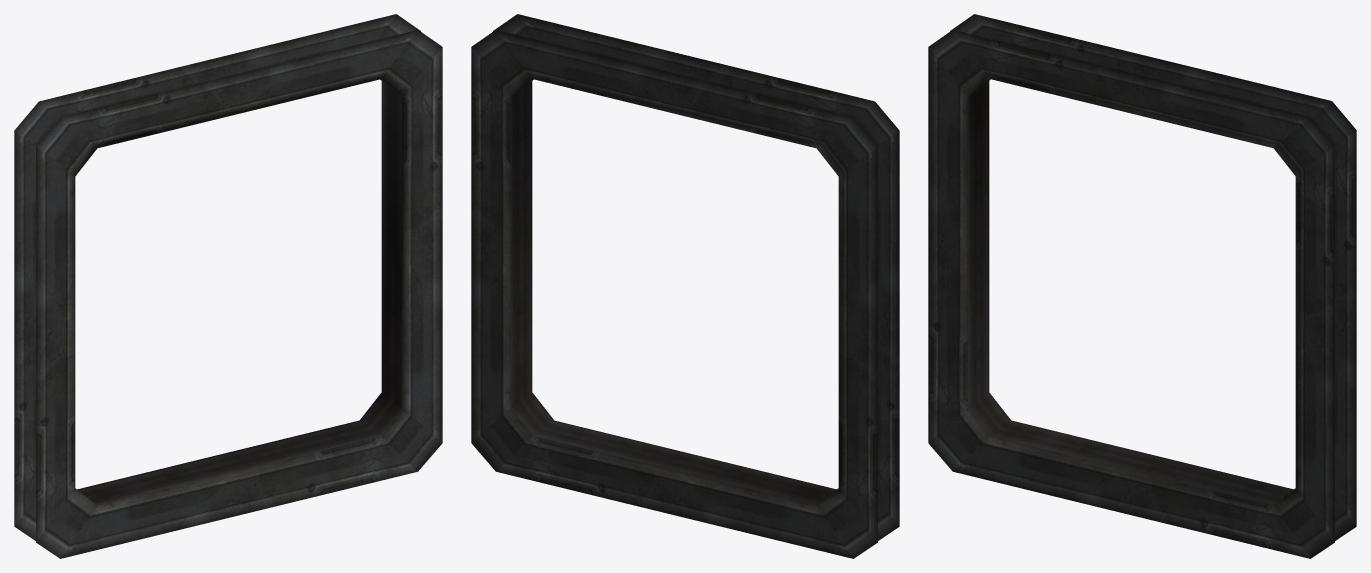
Rendered from trainstation_maintenance_tunnels_end_open.dae.
The picture shows the model from 3 angles, left to right: view 1: azimuth 30°, elevation 25°; view 2: azimuth 150°, elevation 25°; view 3: azimuth 330°, elevation 25°; orthographic projection.
Parts seen in each view (by area): view 1: end_open; view 2: end_open; view 3: end_open.
Boxes of the visible parts, x1,y1,x2,y2 form: end_open: (14, 14, 442, 558); end_open: (471, 14, 899, 558); end_open: (928, 14, 1356, 558).
Size of the model in its own units: 1.36 by 1.41 by 0.125.
